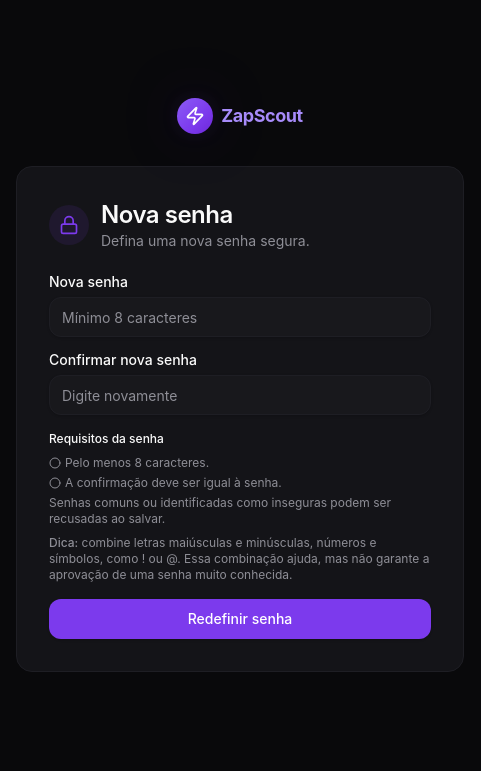
Test: definição de senha com orientações claras › mostra a recusa real em português e permite tentar uma alternativa
Expected: the button "Redefinir senha" is shown, top-left (49, 599), bottom-right (431, 639)
Type "TesteFake123!" into the password field labelled "Nova senha" at [240, 317], box top-left (49, 297), bottom-right (431, 337)
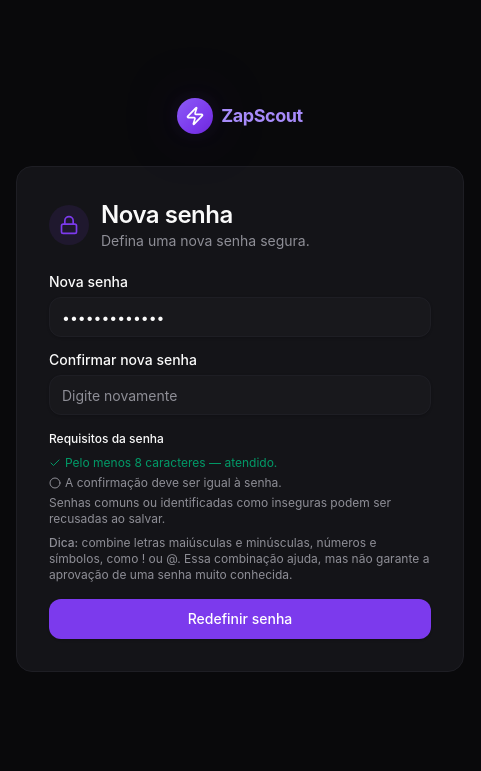
Type "TesteFake123!" into the password field labelled "Confirmar nova senha" at [240, 395], box top-left (49, 375), bottom-right (431, 415)
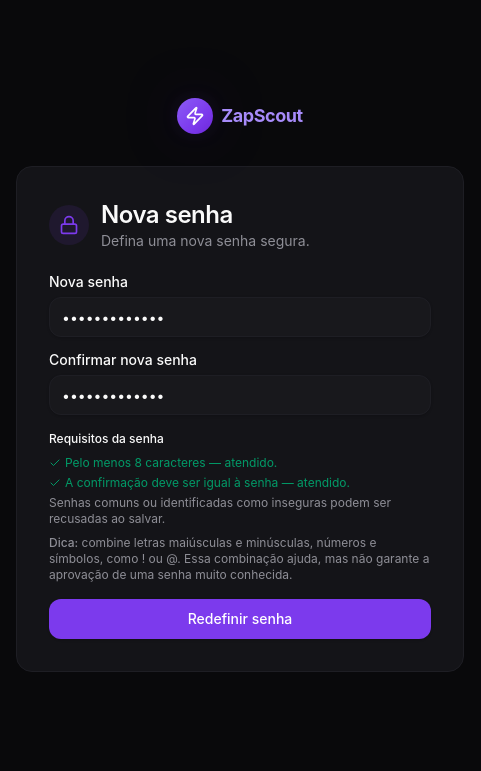
Submit the form, box top-left (49, 275), bottom-right (431, 639)
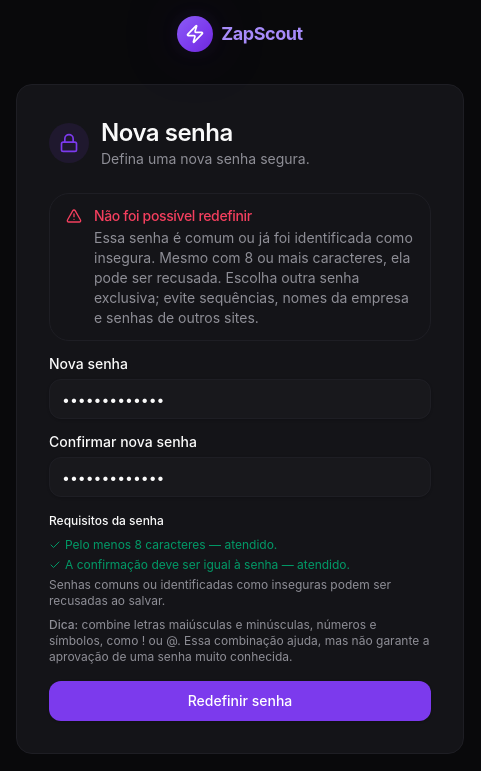
Expected: the text "Essa senha é comum ou já foi identificada como insegura" is shown, top-left (94, 229), bottom-right (413, 326)
Type "OutraFicticia!76543" into the password field labelled "Nova senha" at [240, 399], box top-left (49, 379), bottom-right (431, 419)
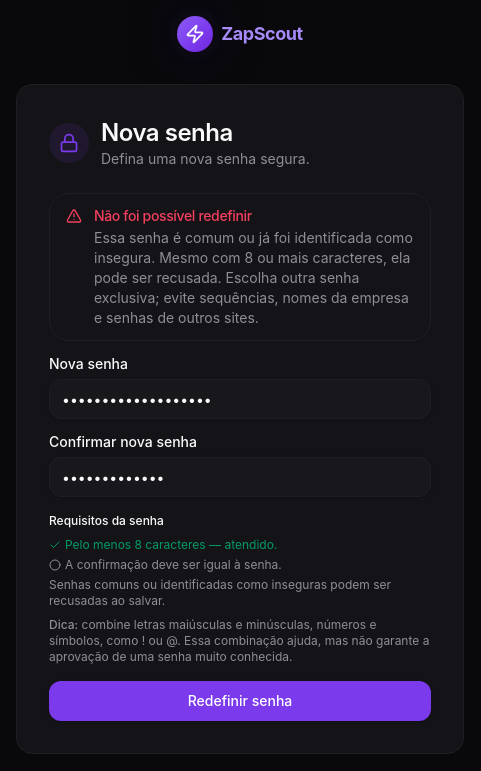
Type "OutraFicticia!76543" into the password field labelled "Confirmar nova senha" at [240, 477], box top-left (49, 457), bottom-right (431, 497)
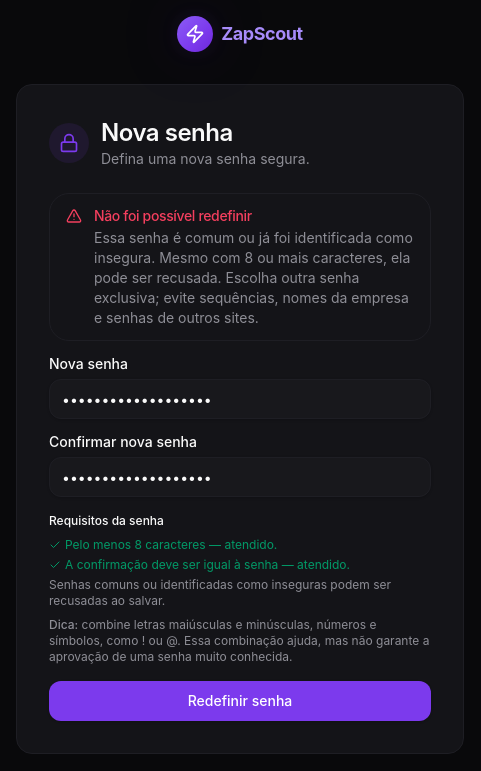
Submit the form, box top-left (49, 357), bottom-right (431, 721)
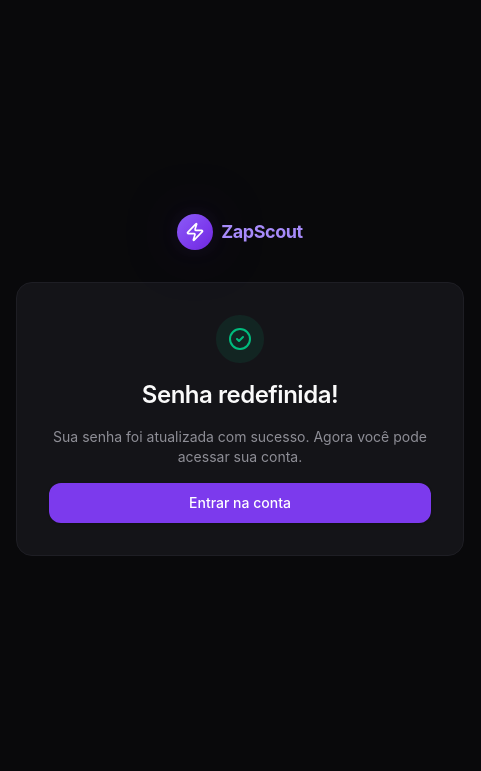
Expected: the heading "Senha redefinida!" is shown, top-left (142, 380), bottom-right (338, 409)
